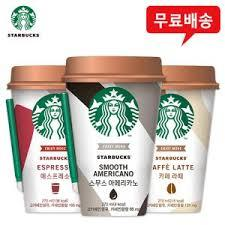starbucks_cafelatte: (146, 64, 221, 219)
